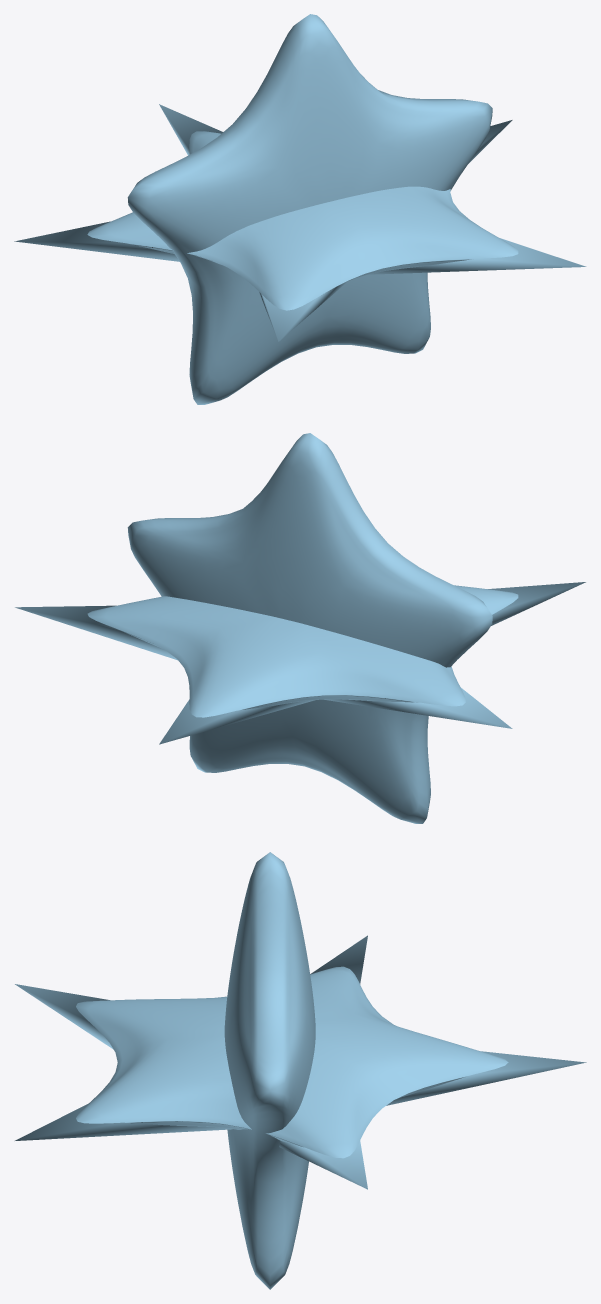
The model's file is StarBalloon-transformed.glb.
3 renders of one model, top to bottom at view 1: azimuth 30°, elevation 25°; view 2: azimuth 150°, elevation 25°; view 3: azimuth 270°, elevation 25°, orthographic. The views are drawn at different scales.
Parts seen in each view (by area): view 1: Balloon - smoothed, Balloon Test, Circle.001; view 2: Balloon - smoothed, Balloon Test, Circle.001; view 3: Balloon Test, Balloon - smoothed, Circle.001.
Boxes of the visible parts, box(x1,y1,x2,y2) form: Balloon - smoothed: box(127, 14, 492, 404); Balloon Test: box(87, 131, 518, 310); Circle.001: box(14, 104, 586, 341); Balloon - smoothed: box(127, 433, 492, 823); Balloon Test: box(87, 585, 518, 717); Circle.001: box(15, 582, 585, 744); Balloon Test: box(76, 966, 508, 1158); Balloon - smoothed: box(224, 852, 315, 1289); Circle.001: box(15, 935, 586, 1189).
Size of the model in its own units: 2.26 by 1.58 by 2.15.
